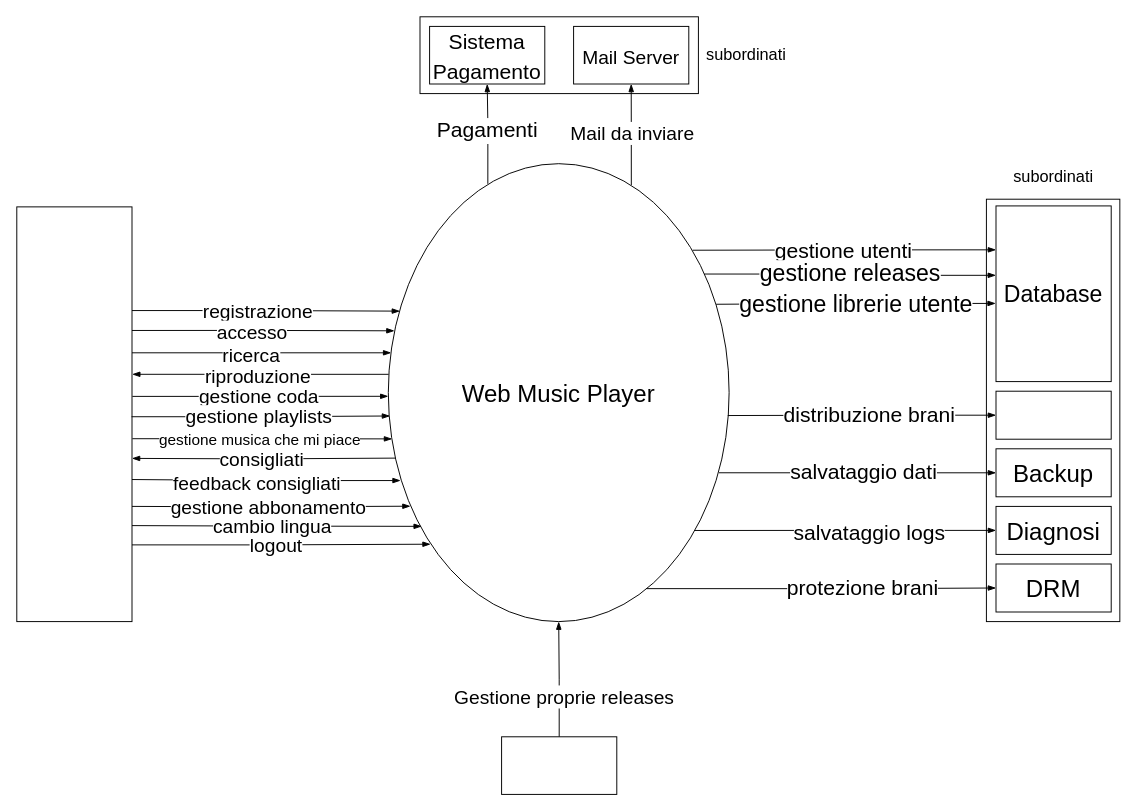
The diagram is 1137 pixels wide and 811 high, and some of its shapes have lost their labels. The centre of each missing label's shape, as x and y in pixels:
CDN: the point at 1053,414
Creator Attore: the point at 559,765
Utente Attore: the point at 74,414
